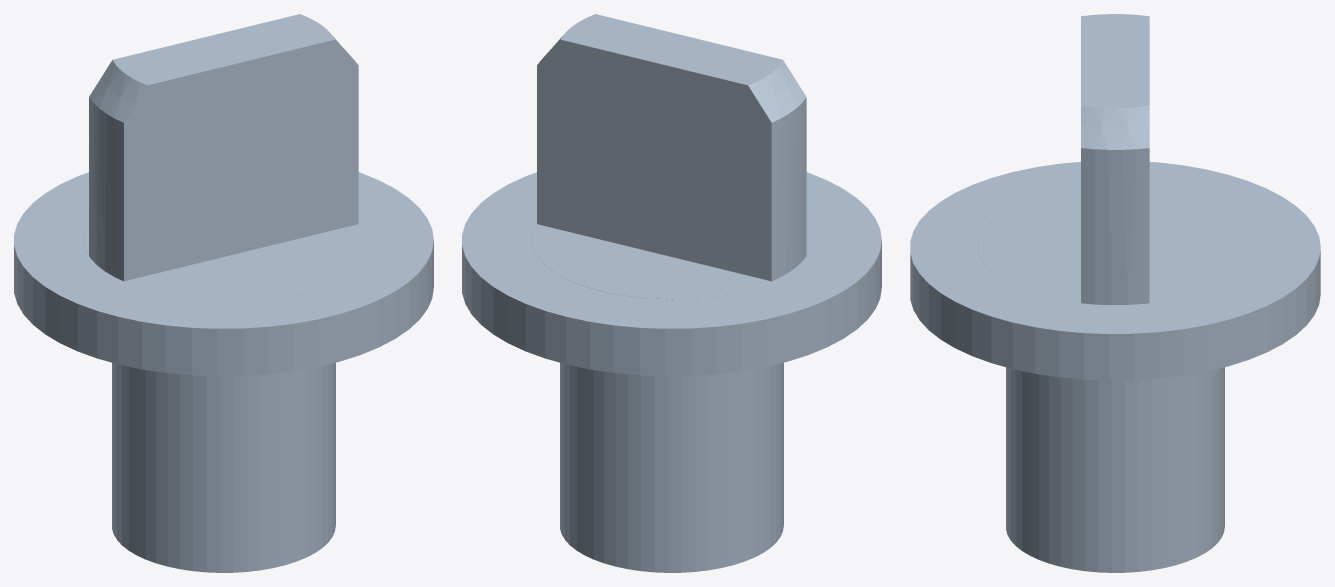
The picture shows the model from 3 angles, left to right: view 1: azimuth 30°, elevation 25°; view 2: azimuth 150°, elevation 25°; view 3: azimuth 270°, elevation 25°; orthographic projection. The views are drawn at different scales.
Visible parts, largest first — view 1: p01; view 2: p01; view 3: p01.
Part boxes in pixels (x1,y1,x2,y2): p01: [14, 14, 433, 572]; p01: [462, 14, 881, 572]; p01: [910, 14, 1320, 572].
Bounding box in the file's own units: 0.024 × 0.03 × 0.024.
